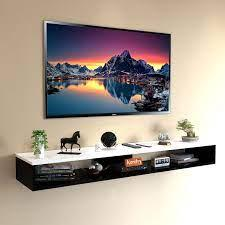TV: (43, 20, 179, 119)
console: (19, 132, 219, 194)
